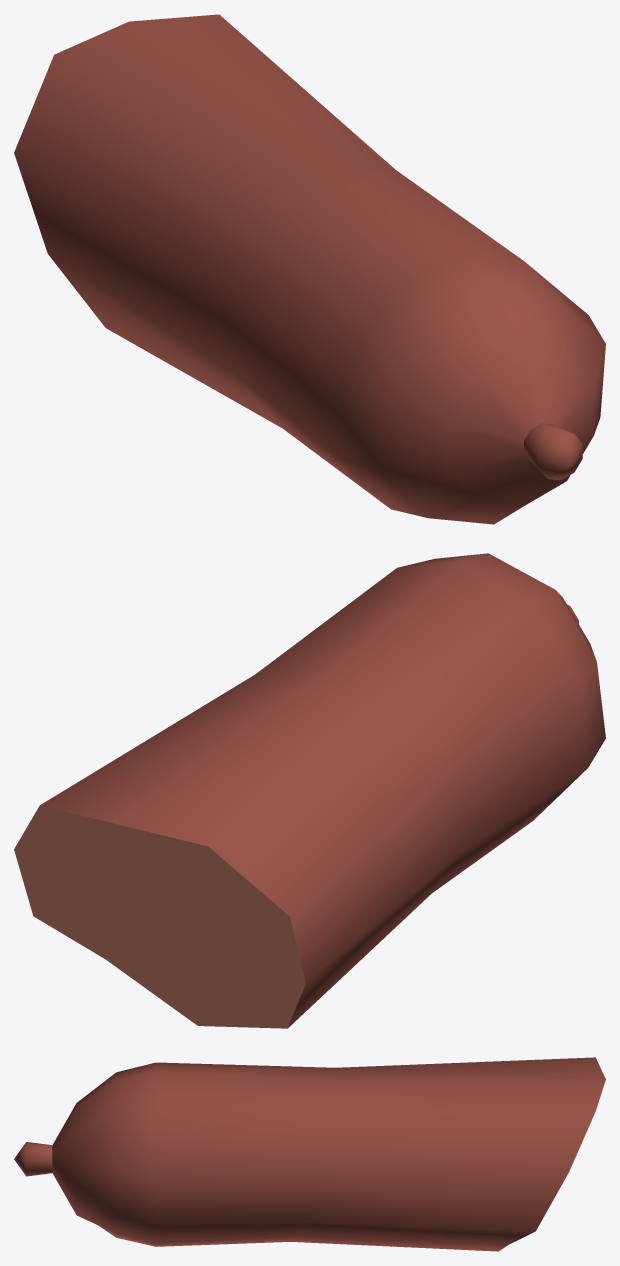
Rendered from Saucisson.fbx.
3 renders of one model, top to bottom at view 1: azimuth 30°, elevation 25°; view 2: azimuth 150°, elevation 25°; view 3: azimuth 270°, elevation 25°, orthographic. The views are drawn at different scales.
Visible parts, largest first — view 1: Saucisson; view 2: Saucisson; view 3: Saucisson.
Part boxes in pixels (x1,y1,x2,y2): Saucisson: (14,14,605,524); Saucisson: (14,553,605,1028); Saucisson: (14,1057,605,1251).
Size of the model in its own units: 70.41 by 65.31 by 195.
